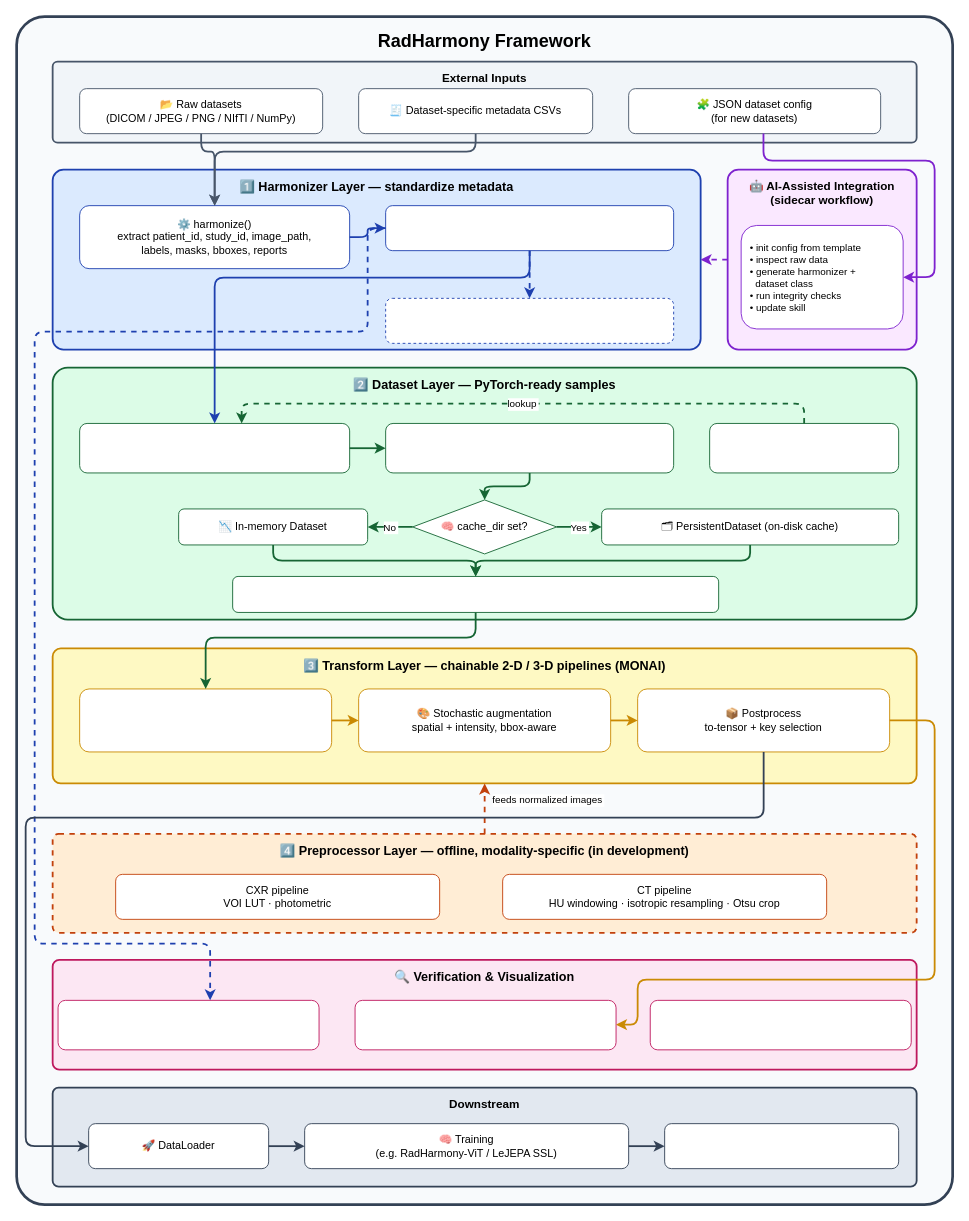
The diagram is 969 pixels wide and 1221 high, and some of its shapes have lost their labels. Each missing label, with the centre of its shape:
💾 Serialized pickle save() / load_from_saved() — skip re-harmonization: (x=529, y=320)
📊 Patient-level splitting train/val or k-fold CV (get_folds): (x=214, y=448)
📏 Linear probe eval 5-fold patient-level CV: (x=781, y=1146)
🔍 verify_images() check paths resolve; drop missing rows: (x=188, y=1024)
🔗 ConcatDataset — combine multiple harmonized datasets: (x=475, y=594)
🖼 visualize_samples() overlays for labels / masks / bboxes: (x=485, y=1024)
🗝 Registry @register decorator: (x=804, y=448)
🧩 Gradio web app interactive dataset browser: (x=780, y=1024)
🧪 Deterministic preprocessing load → normalize → resize → pad: (x=205, y=720)
🧱 Sample dicts {img, cls?, mask?, bbox?, report?}: (x=529, y=448)
🧾 Harmonized DataFrame (standardized schema): (x=529, y=228)
